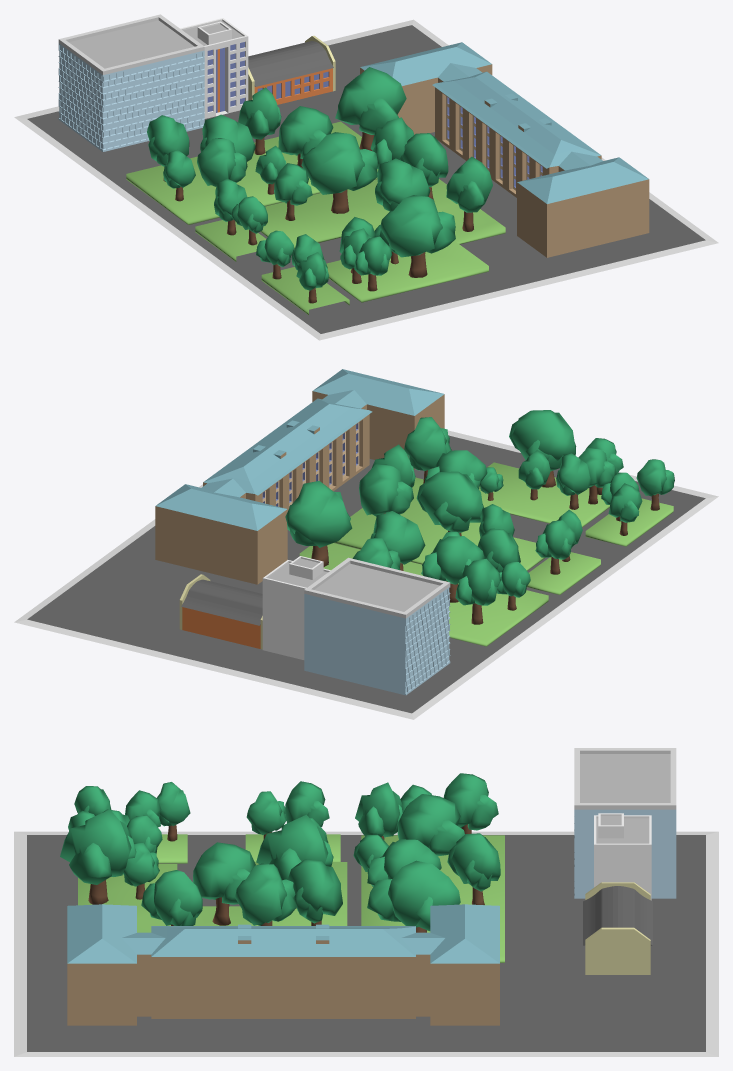
File: University.gltf
The picture shows the model from 3 angles, top to bottom: view 1: azimuth 30°, elevation 25°; view 2: azimuth 150°, elevation 25°; view 3: azimuth 270°, elevation 25°; orthographic projection. The views are drawn at different scales.
Parts seen in each view (by area): view 1: Plane.075, Cube.002, Cube, Cube.004, Cube.005, Корпус.001, Корпус, Plane, Plane.003, Plane.015, Plane.012, Plane.006 (+21 smaller); view 2: Plane.075, Cube.002, Cube, Cube.004, Корпус.001, Корпус, Cube.005, Plane.015, Plane, Plane.003, Cube.007, Cube.006 (+18 smaller); view 3: Plane.075, Cube.002, Cube, Корпус.001, Корпус, Cube.004, Plane.015, Cube.005, Plane.003, Plane.054, Plane.012, Plane (+24 smaller).
Boxes of the visible parts, x1,y1,x2,y2 form: Plane.075: (14,19,718,340); Cube.002: (360,42,649,257); Cube: (58,14,204,151); Cube.004: (260,179,505,302); Cube.005: (126,121,378,224); Корпус.001: (248,35,335,104); Корпус: (180,18,248,118); Plane: (301,132,364,194); Plane.003: (380,195,442,257); Plane.015: (335,67,406,124); Plane.012: (377,158,430,204); Plane.006: (278,106,333,154); Plane.075: (14,430,718,719); Cube.002: (155,369,444,584); Cube: (304,557,450,695); Cube.004: (334,462,609,570); Корпус.001: (179,574,262,649); Корпус: (262,556,330,659); Cube.005: (299,543,548,646); Plane.015: (285,481,352,547); Plane: (419,471,483,524); Plane.003: (511,410,576,460); Cube.007: (585,498,673,546); Cube.006: (527,552,600,594); Plane.075: (14,831,718,1056); Cube.002: (67,904,499,1025); Cube: (574,748,676,898); Корпус.001: (583,882,652,974); Корпус: (594,813,651,900); Cube.004: (78,862,347,932); Plane.015: (388,860,460,927); Cube.005: (361,835,504,962); Plane.003: (60,809,131,876); Plane.054: (235,863,286,925); Plane.012: (193,842,255,899); Plane: (256,814,328,864).
Size of the model in its own units: 20.77 by 4.44 by 27.46.
